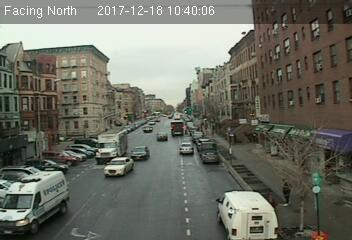car: (102, 156, 130, 178), (132, 146, 148, 161), (201, 150, 218, 163), (179, 143, 194, 156), (156, 131, 169, 141)
pedestrian: (282, 178, 294, 210)
truck: (1, 167, 69, 237), (217, 190, 280, 240), (98, 127, 126, 162)
ups: (170, 120, 185, 136)
